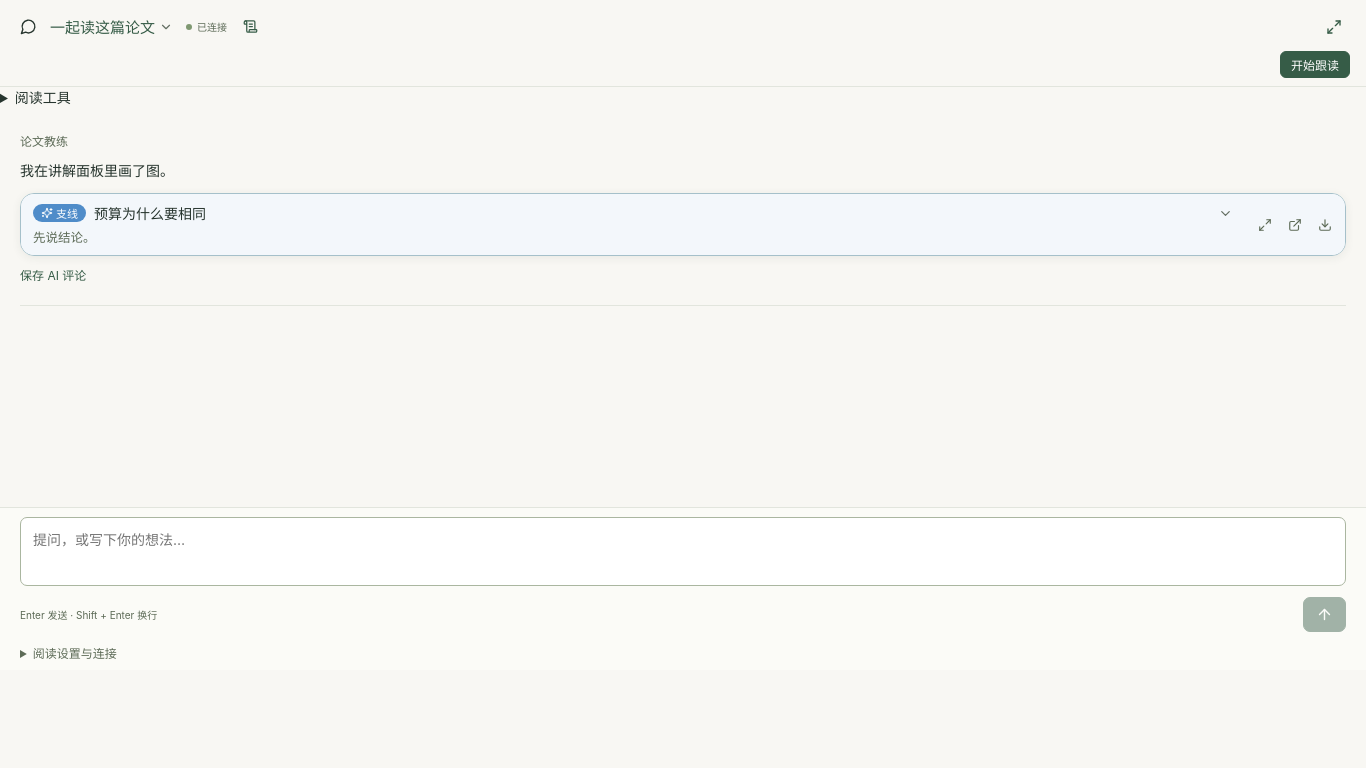
Test case: keeps old explainer pages folded on reload; one click opens the page in the conversation
The image size is (1366, 768).
Click the button "支线 预算为什么要相同 先说结论。" at (60, 213), box [21,194,1245,255]
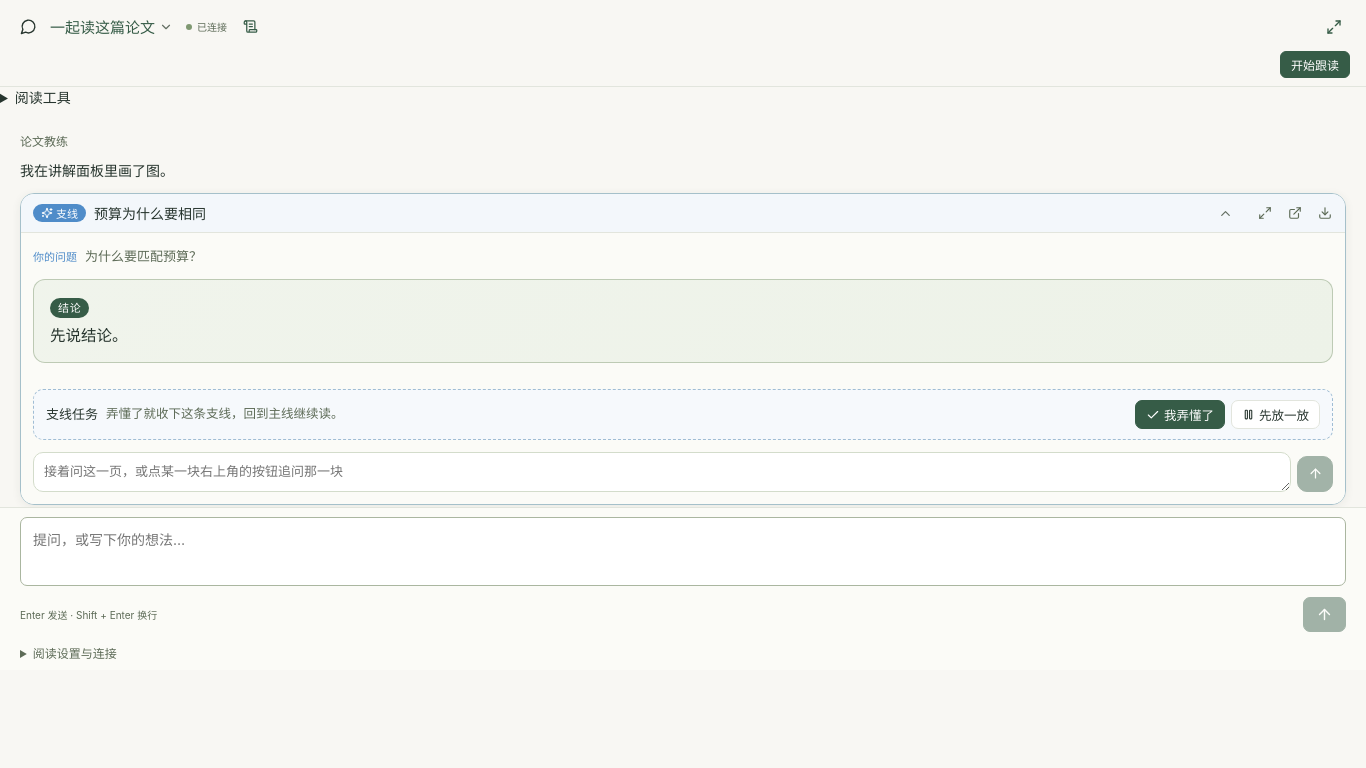
Expected: the text "先说结论。" is shown, [50,326,128,345]
The side panel is still one click away.
Click the button named "放大到侧边" at (1265, 213), box [1251,199,1279,227]
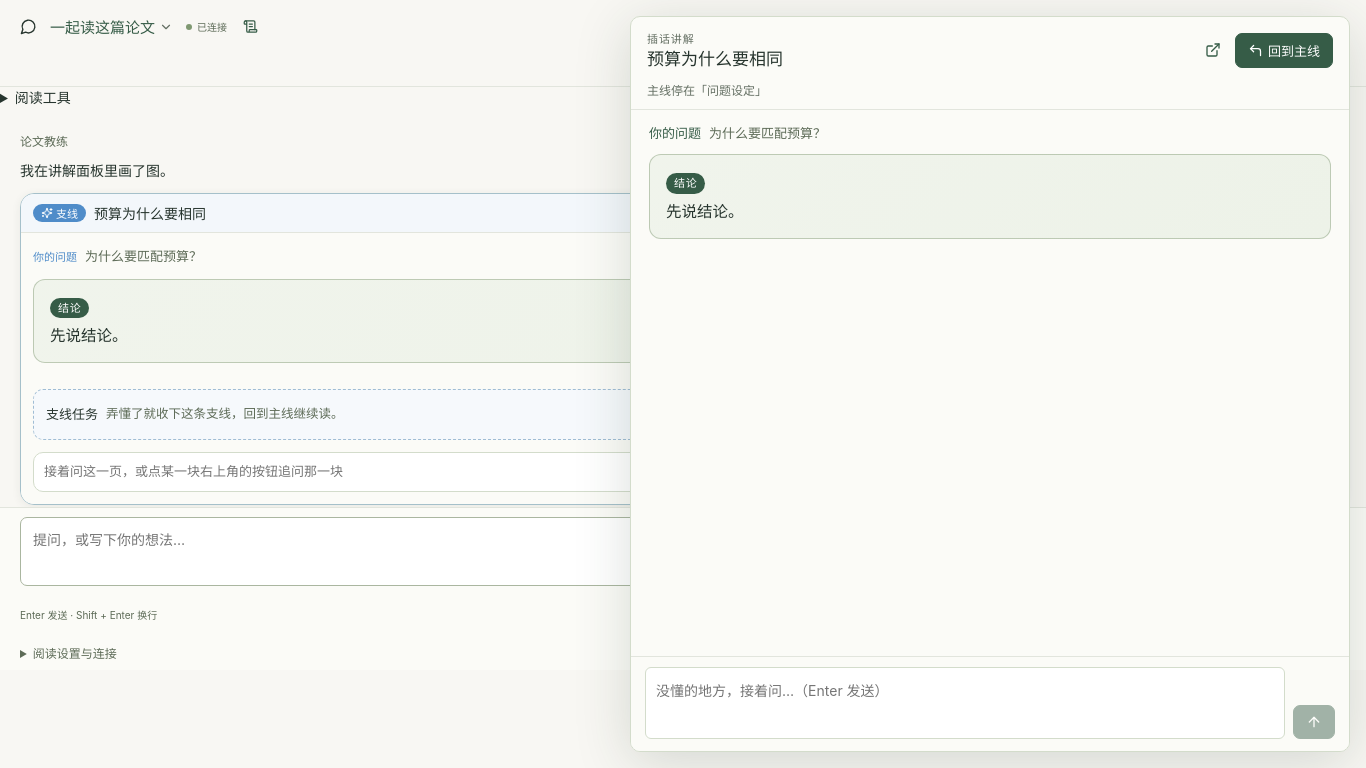
Now the dialog named "讲解面板" is shown, box [630,16,1350,752]
